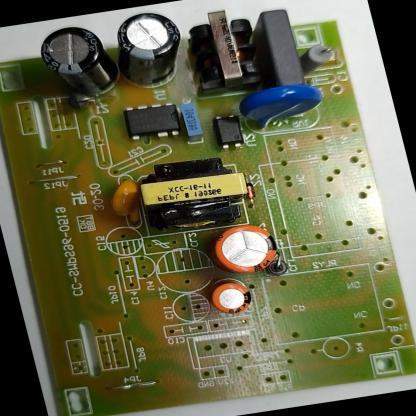Cap1: (206, 219, 286, 279)
Cap2: (207, 277, 259, 318)
Cap3: (105, 6, 195, 92)
Cap4: (34, 21, 120, 104)
MOSFET: (118, 98, 187, 145)
Mov: (234, 77, 330, 134)
Resistor: (294, 38, 342, 78)
Transformer: (131, 150, 256, 236), (177, 6, 269, 100)
